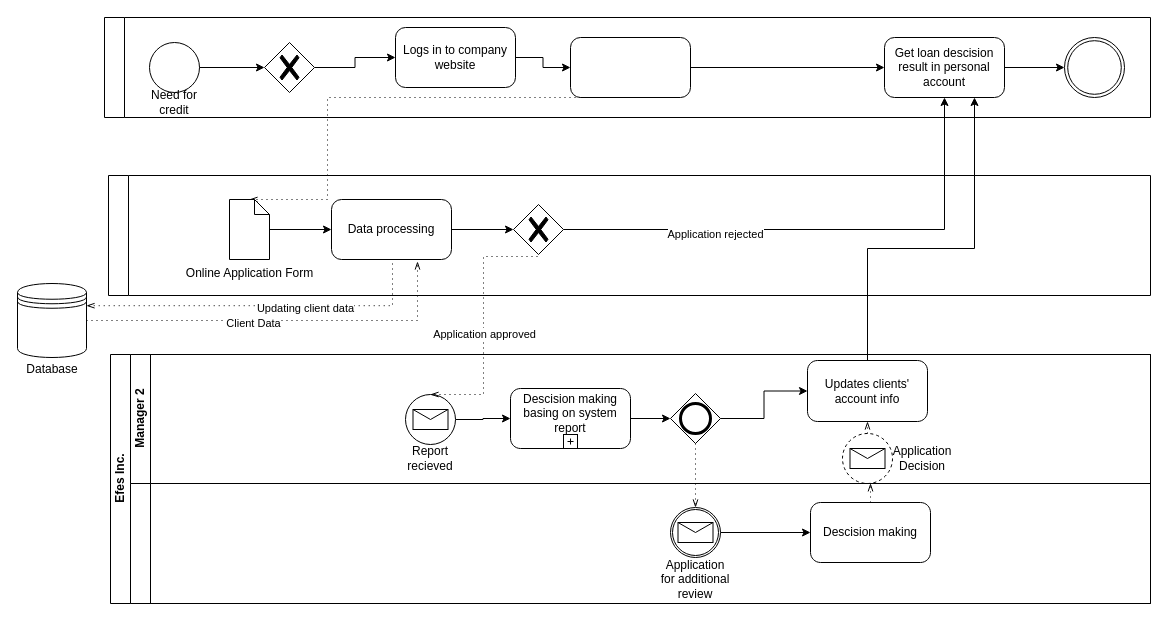
The diagram is 1168 pixels wide and 621 high, and some of its shapes have lost their labels. Each missing label, with the box of its shape:
Client: (104, 16, 1150, 118)
Fills out proposed online application form: (570, 36, 690, 98)
Financial analyst: (130, 482, 1150, 604)
Website: (108, 174, 1150, 296)
